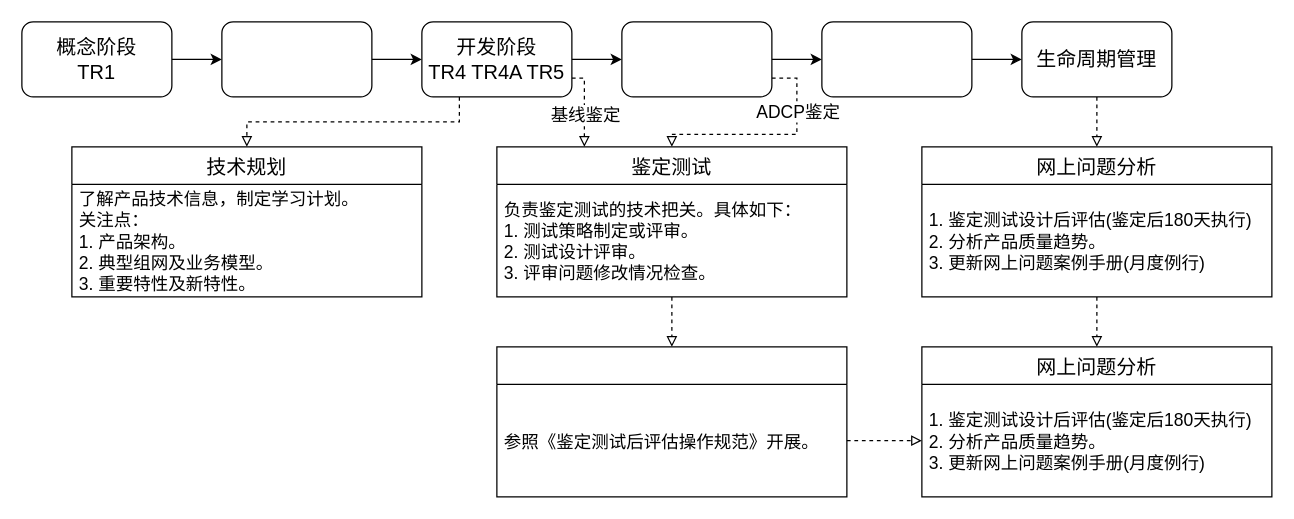
Image size: 1294x519. Some labels were removed from this diagram. The shapes that lost their labels are listed below. From the top down, each one's box as (x1, y1, x2, y2) in pixels, then its label:
(221, 21, 372, 97): 计划阶段 TR2 TR3
(621, 21, 772, 97): 验证阶段 TR6
(821, 21, 972, 97): 发布阶段
(496, 346, 847, 497): 测试执行后评估
